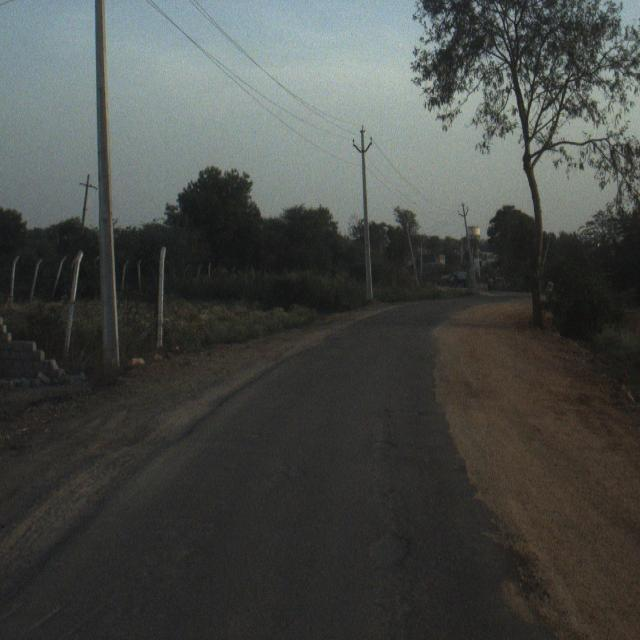Pothole: (367, 522, 419, 583), (359, 434, 404, 474)
